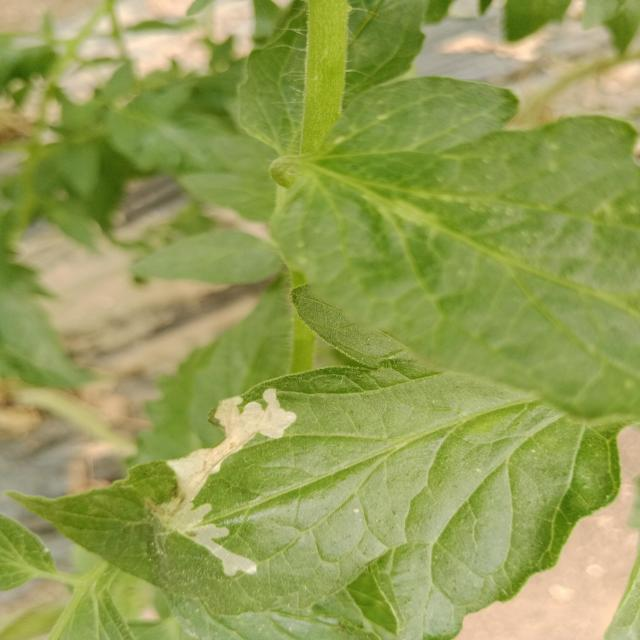Tuta absoluta: (140, 366, 307, 582)
